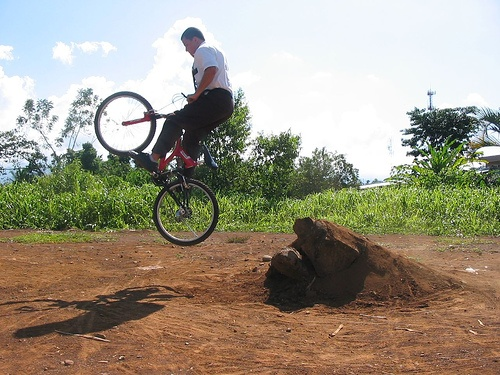bicycle: (95, 85, 232, 253)
person: (135, 25, 236, 188)
